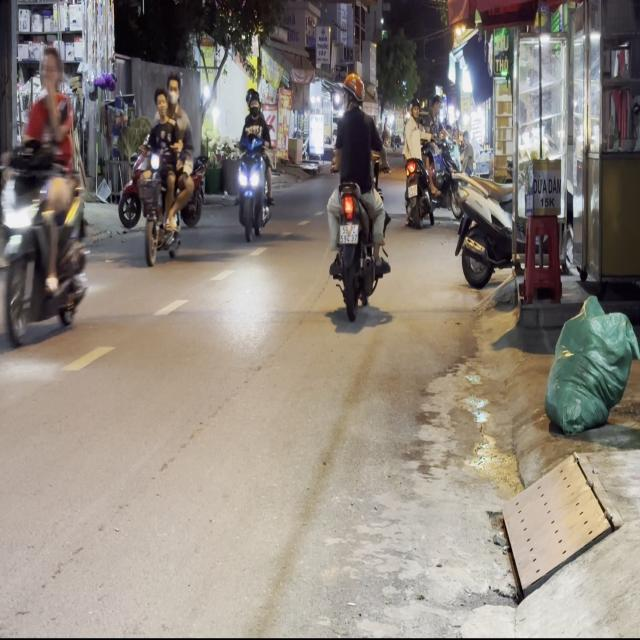helmet: (342, 70, 364, 106), (246, 87, 259, 112)
licenseplate: (0, 42, 93, 350), (324, 69, 391, 315), (136, 77, 192, 266)
motorcyclist: (38, 44, 66, 96), (165, 77, 180, 106), (154, 87, 168, 117)
nohelmet: (339, 224, 357, 242)
